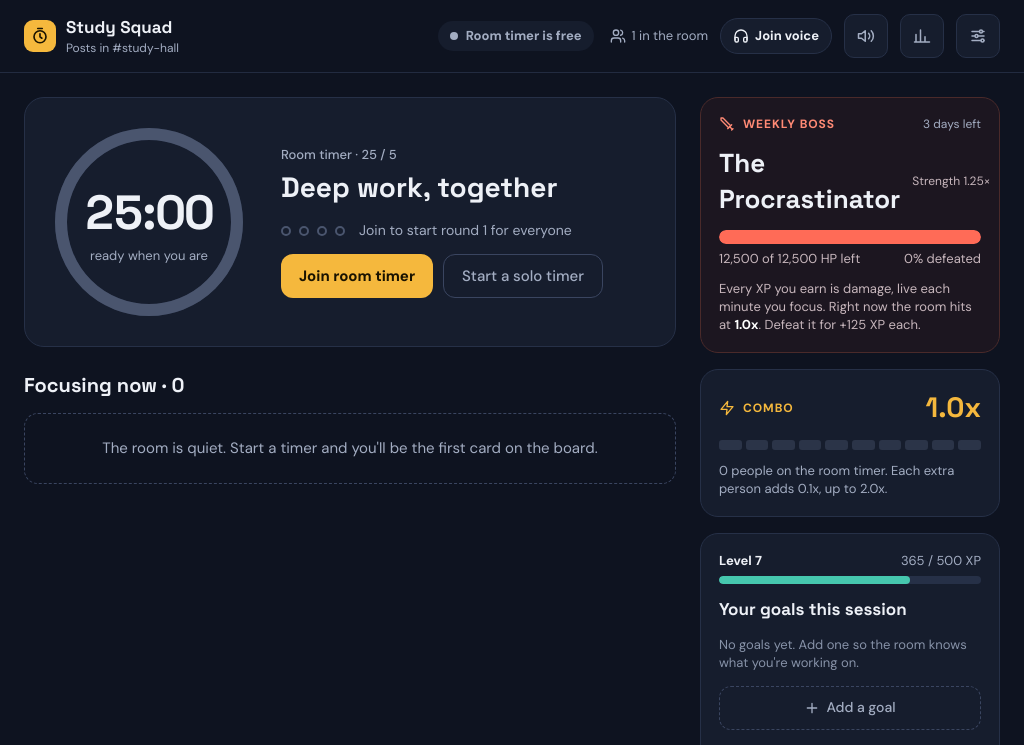
Test: Study Squad app › keeps progress and the leaderboard live while the room updates
The image size is (1024, 745).
Check: the text "25:00" is shown, box [85,179,213,246]
Click the button named "Your progress". click: (922, 36)
box: [900,14,944,58]
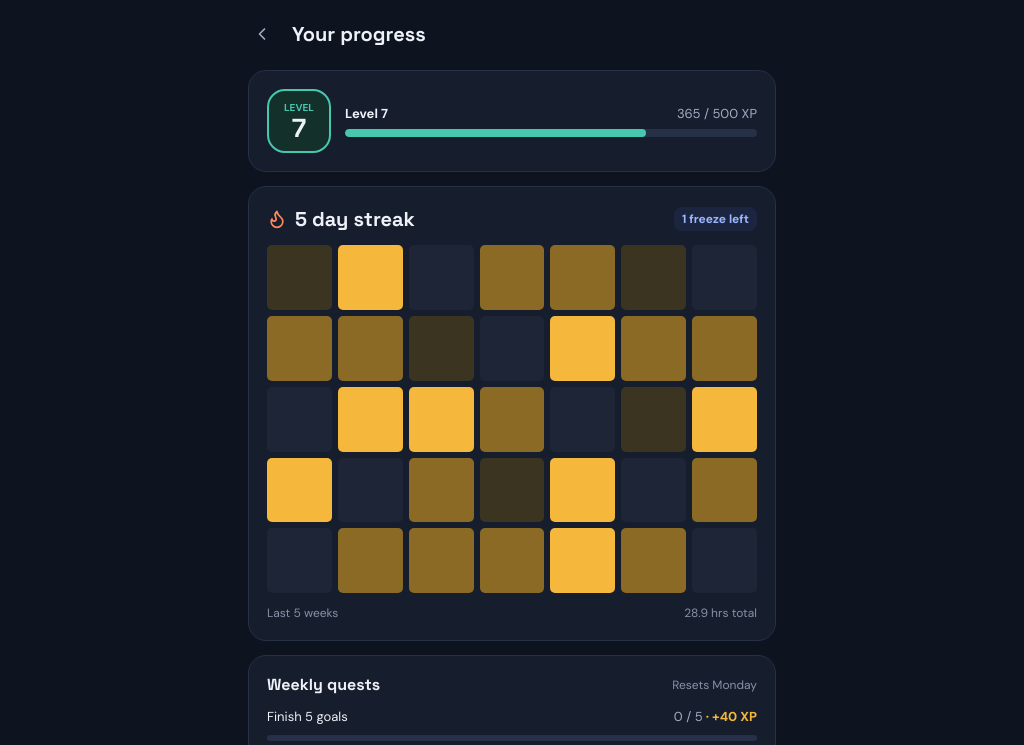
Check: the text "5 day streak" is shown, box [295,205,415,233]
